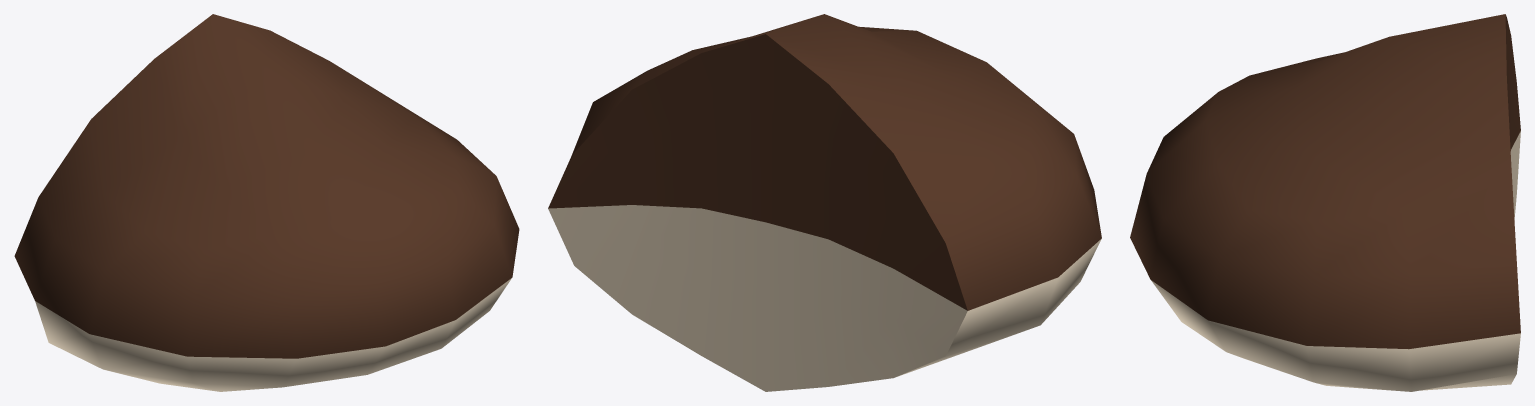
File: Artists_Conk_Small.glb
3 renders of one model, left to right at view 1: azimuth 30°, elevation 25°; view 2: azimuth 150°, elevation 25°; view 3: azimuth 270°, elevation 25°, orthographic. The views are drawn at different scales.
Parts seen in each view (by area): view 1: Artists_Conk_Small; view 2: Artists_Conk_Small; view 3: Artists_Conk_Small.
Part boxes in pixels (x1,y1,x2,y2): Artists_Conk_Small: [14, 14, 519, 391]; Artists_Conk_Small: [548, 14, 1101, 391]; Artists_Conk_Small: [1130, 14, 1520, 391].
Size of the model in its own units: 0.3093 by 0.2169 by 0.2168.
Materials: 1 (1 with a texture image).
